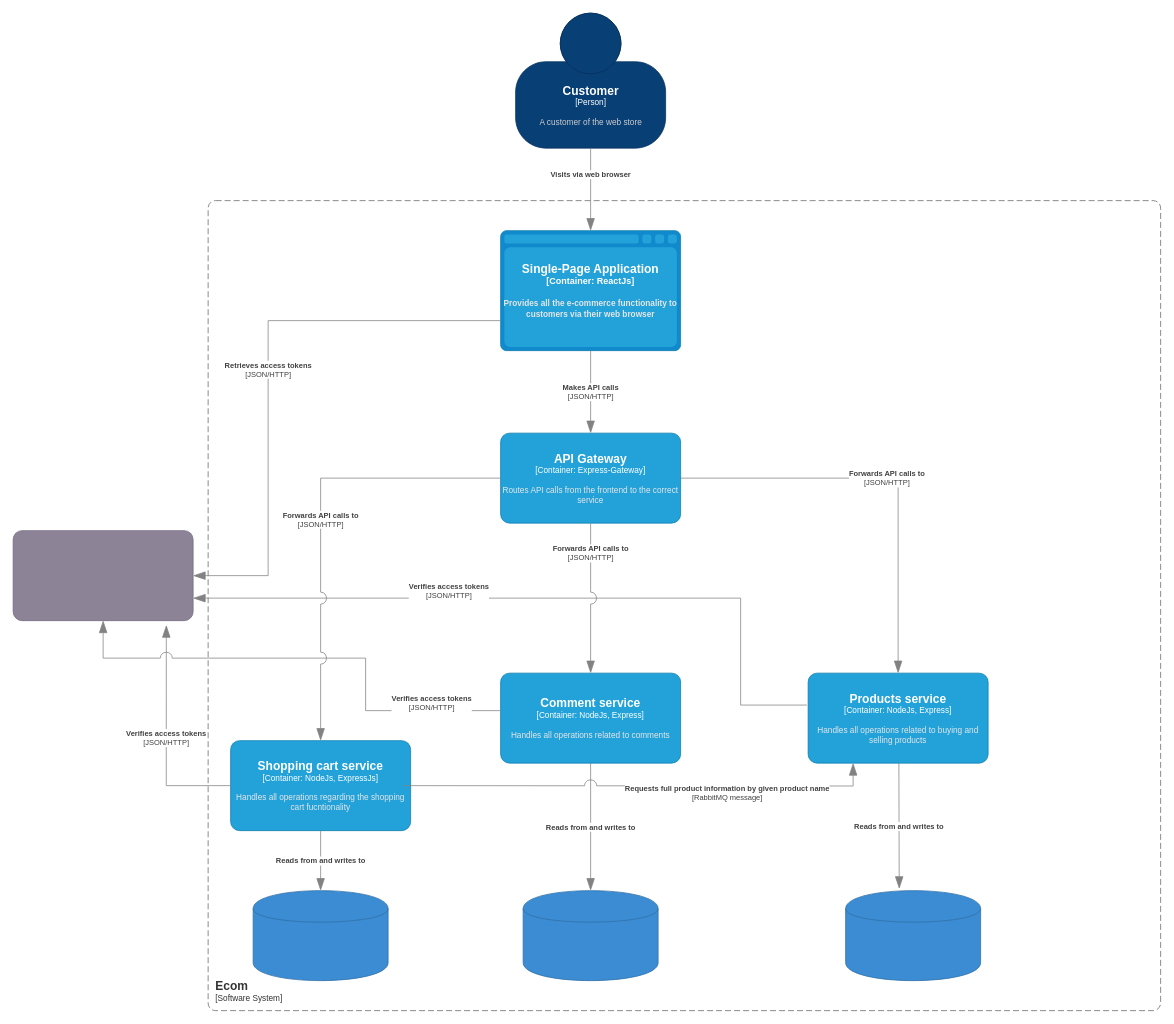
Some shapes in this 1174 by 1024 pixel diagram are drawn without their labels. The centre of each missing label's shape, as x and y in pixels:
Auth0 [Identity provider] handles authentication authorization and user data: the point at 102,575
MongoDB [ NoSQL database ] Stores information regarding comments: the point at 590,935
MongoDB [ NoSQL database ] Stores information regarding products: the point at 913,935
MongoDB [ NoSQL database ] Stores information regarding shopping cart: the point at 320,935
